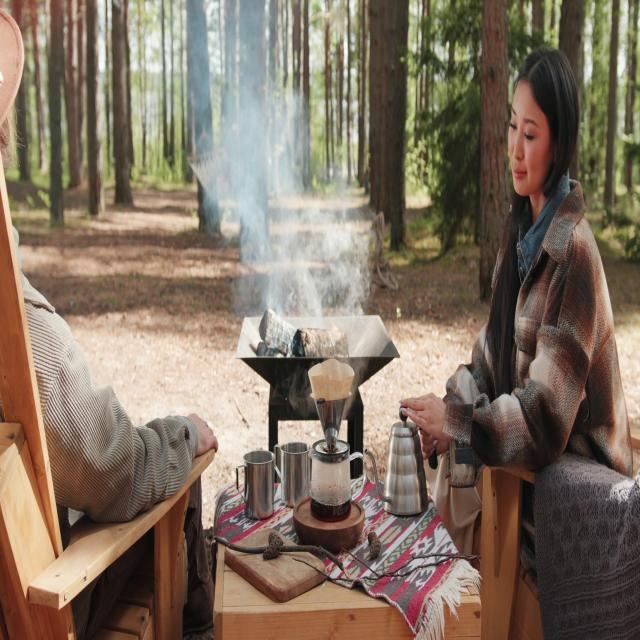Smoke: (161, 0, 372, 345)
